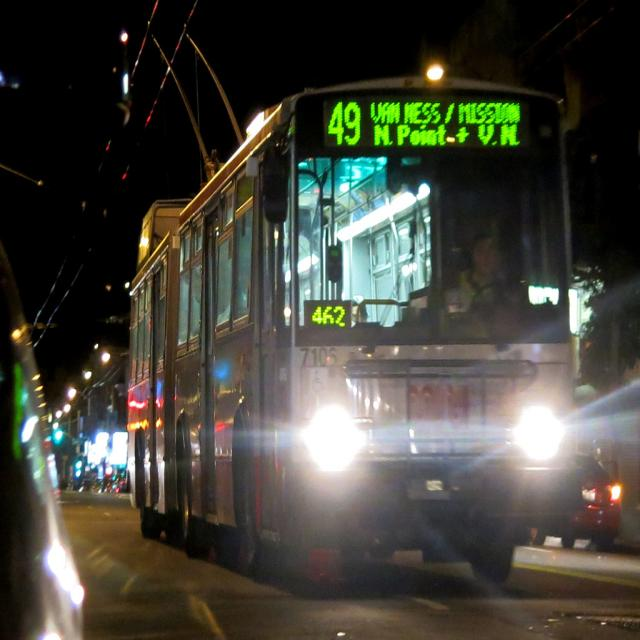Bus: (97, 86, 581, 610)
car: (552, 421, 629, 570), (73, 390, 133, 527)
